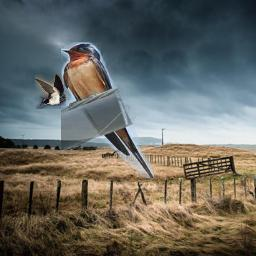Swallow: (61, 42, 154, 178), (35, 74, 66, 109)
